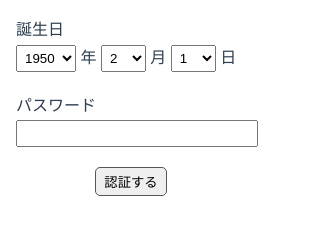
Scenario: 誕生日に「1950年2月1日」が選択されており、パスワードが空文字列の場合 › 【画面】パスワードに「123」と入力してsubmitイベントを発火させると、「パスワードが短すぎます」と表示される
Check: the dropdown with id "year" shows "1950", box x1=16 y1=45 x2=76 y2=72
Check: the dropdown with id "month" shows "2", box x1=101 y1=45 x2=146 y2=72
Type "123" into the password field at [137, 134], box x1=16 y1=120 x2=258 y2=147
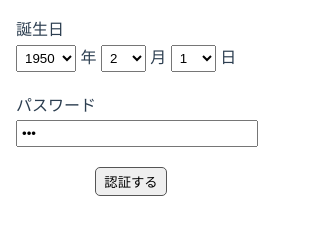
Submit the form, box x1=16 y1=16 x2=246 y2=196
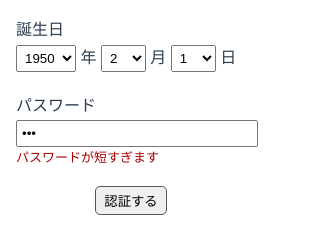
Check: the text with class "error-msg" reads "パスワードが短すぎます", box x1=16 y1=150 x2=159 y2=165
